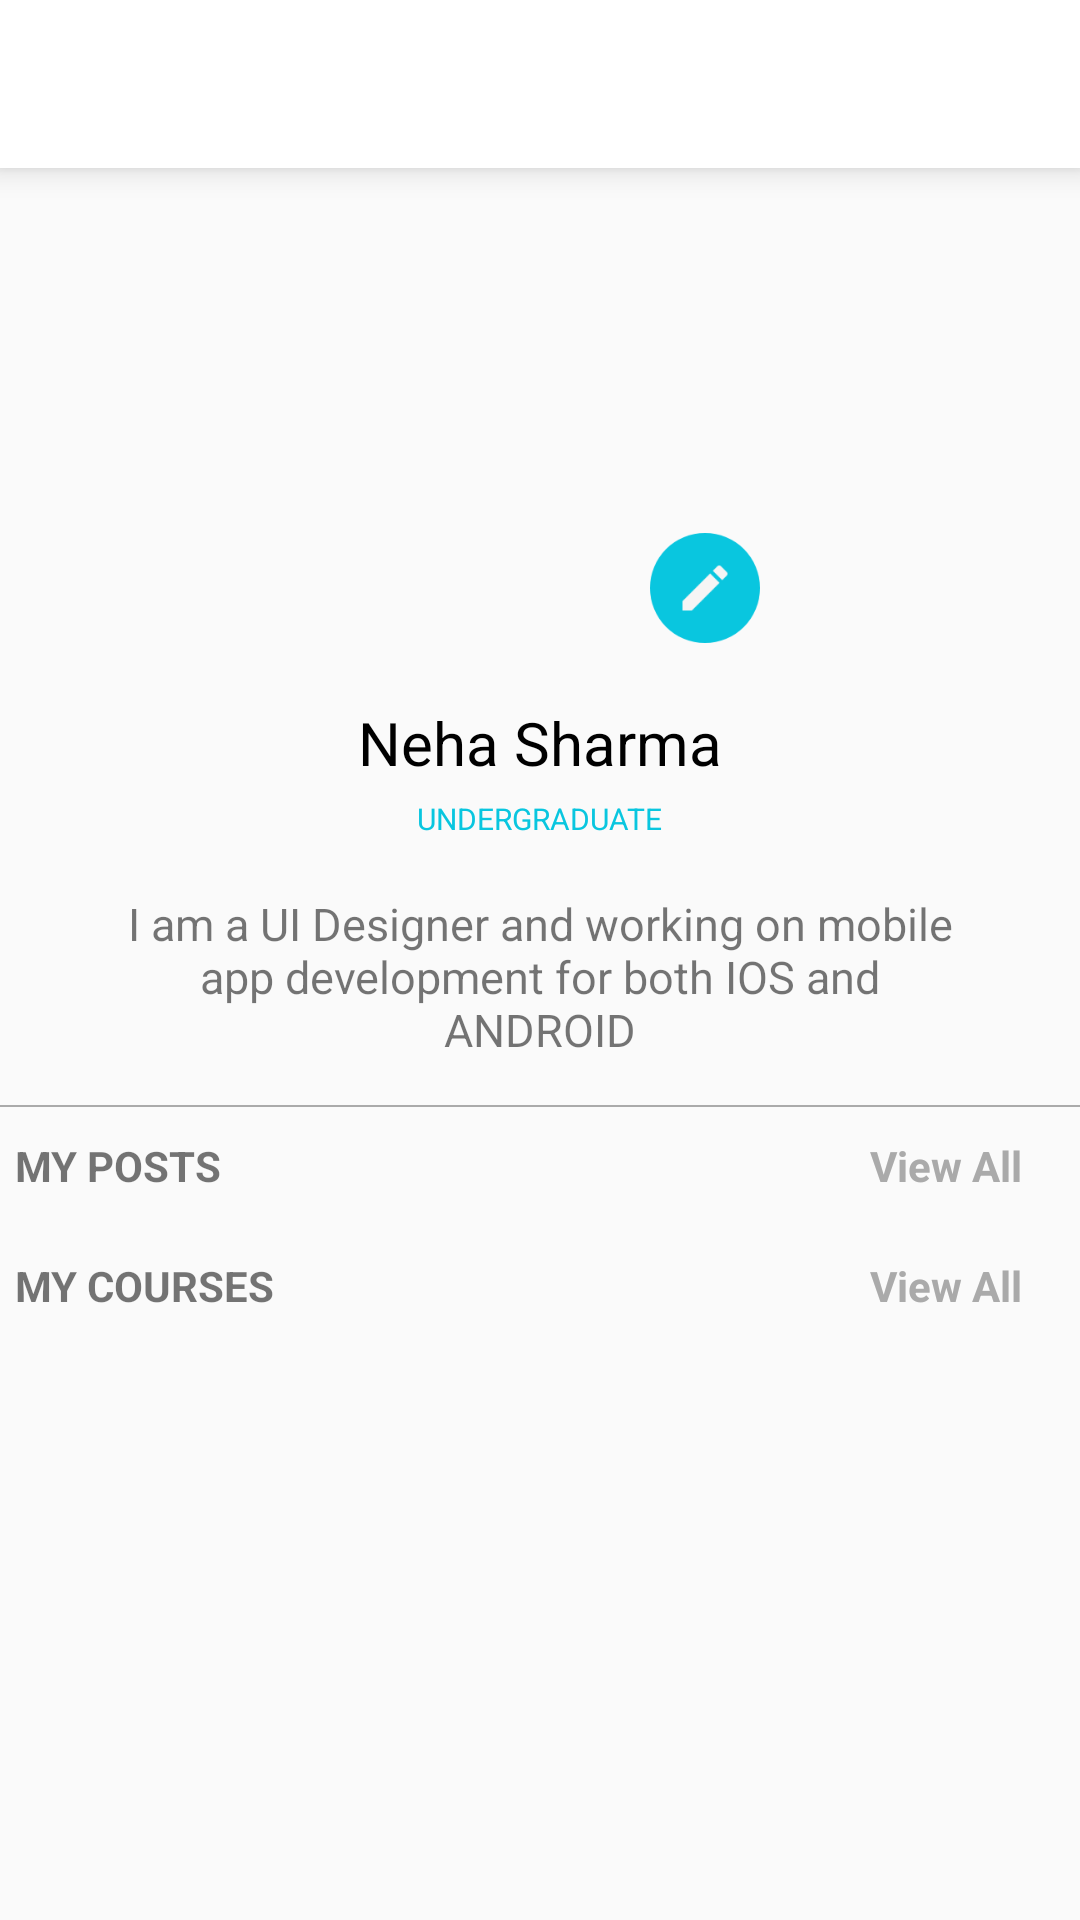

Where to tap for icons on this 1080 × 1920 app screen, as (x,y):
shortcut create: (705,588)
